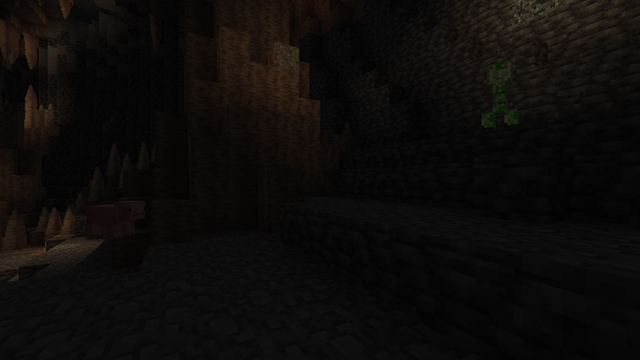cochons: (87, 202, 132, 239)
creepers: (481, 55, 517, 129)
